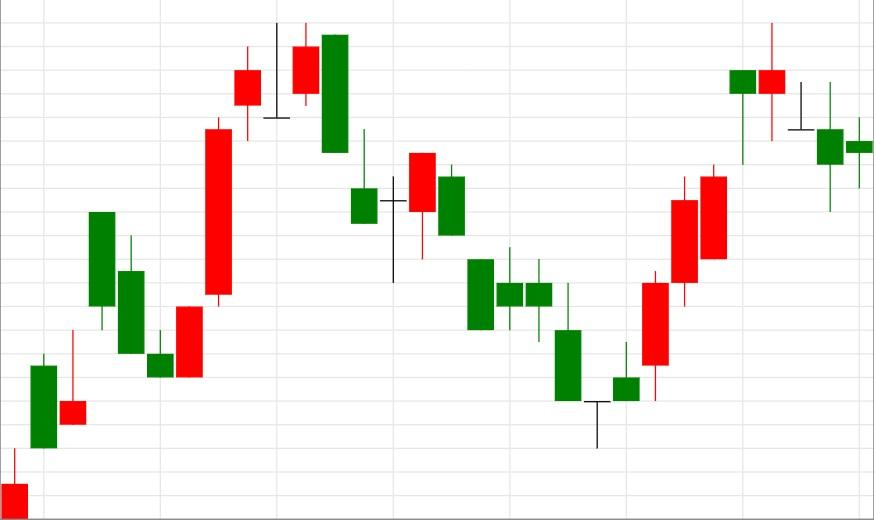bullish_engulfing_rise: (88, 211, 204, 378)
hanging_man_fall: (583, 70, 758, 449)
